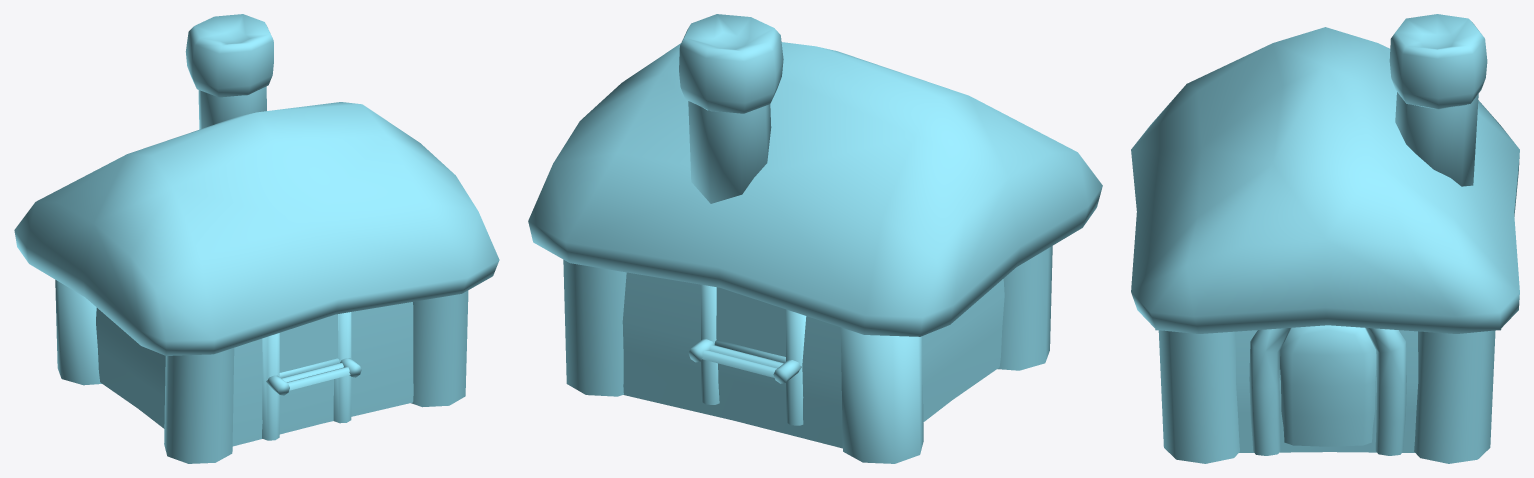
File: house_mellow.fbx
The picture shows the model from 3 angles, left to right: view 1: azimuth 30°, elevation 25°; view 2: azimuth 150°, elevation 25°; view 3: azimuth 270°, elevation 25°; orthographic projection. The views are drawn at different scales.
Visible parts, largest first — view 1: house_mellow; view 2: house_mellow; view 3: house_mellow.
Boxes of the visible parts, left/top/right/bottom form: house_mellow: left=14, top=14, right=499, bottom=463; house_mellow: left=528, top=14, right=1102, bottom=463; house_mellow: left=1131, top=14, right=1519, bottom=463.
Bounding box in the file's own units: 5907 × 5135 × 5023.
